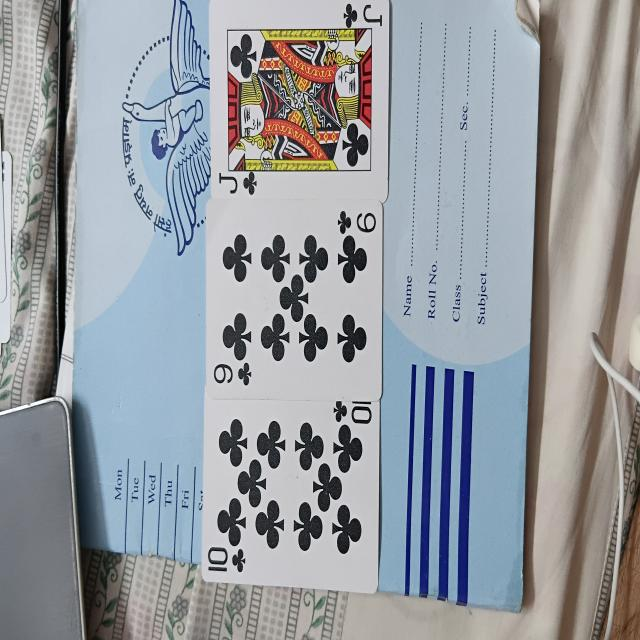10C: (200, 390, 382, 589)
9C: (206, 200, 385, 397)
JC: (210, 0, 391, 208)
